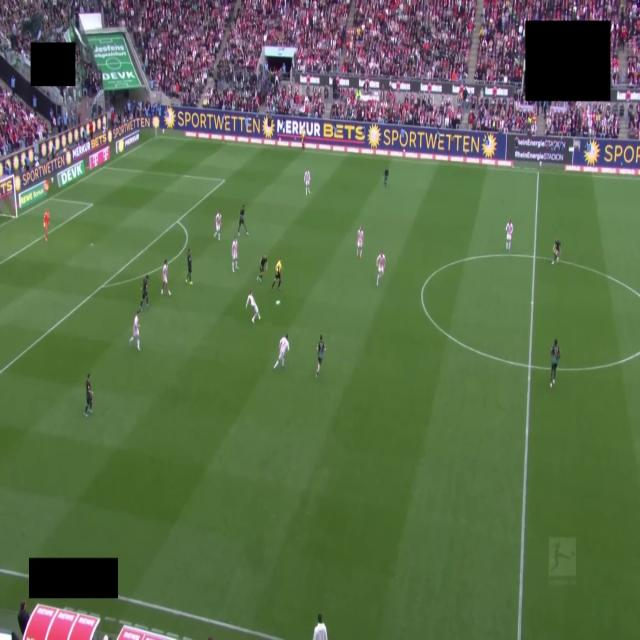ball: (276, 301, 280, 305)
player: (274, 335, 289, 369), (550, 340, 560, 387), (246, 291, 260, 323), (316, 335, 325, 377), (129, 314, 139, 351), (139, 275, 149, 312), (84, 373, 92, 416), (161, 260, 170, 295), (376, 251, 385, 285), (238, 205, 248, 235), (257, 255, 267, 281), (506, 220, 513, 253), (186, 248, 192, 284), (232, 237, 238, 272), (214, 210, 221, 240), (552, 239, 560, 264), (357, 226, 363, 258), (43, 210, 49, 241), (304, 170, 310, 195), (384, 168, 388, 188)
referee: (272, 260, 281, 290)
